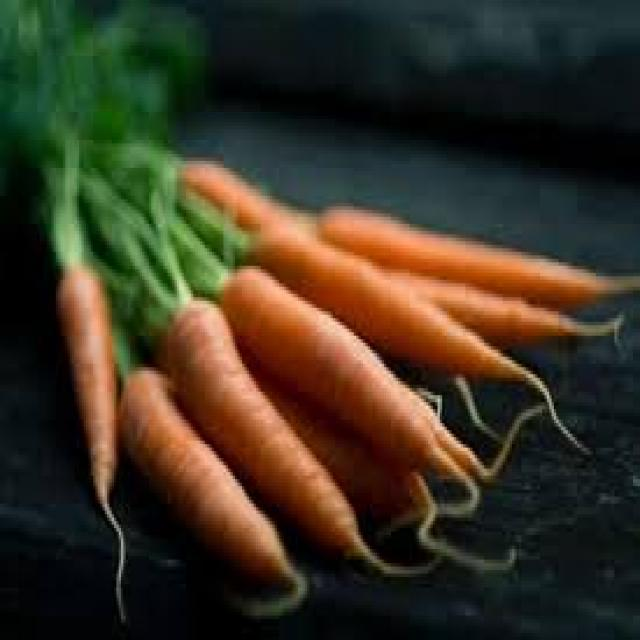organic waste: (212, 255, 477, 493), (163, 294, 358, 563), (149, 325, 419, 504), (0, 0, 209, 203), (237, 228, 526, 374), (114, 360, 286, 584), (305, 203, 638, 301), (380, 266, 628, 343), (77, 147, 163, 367), (54, 255, 114, 539), (112, 144, 218, 298), (175, 150, 314, 242), (28, 140, 91, 262), (174, 178, 244, 270)
